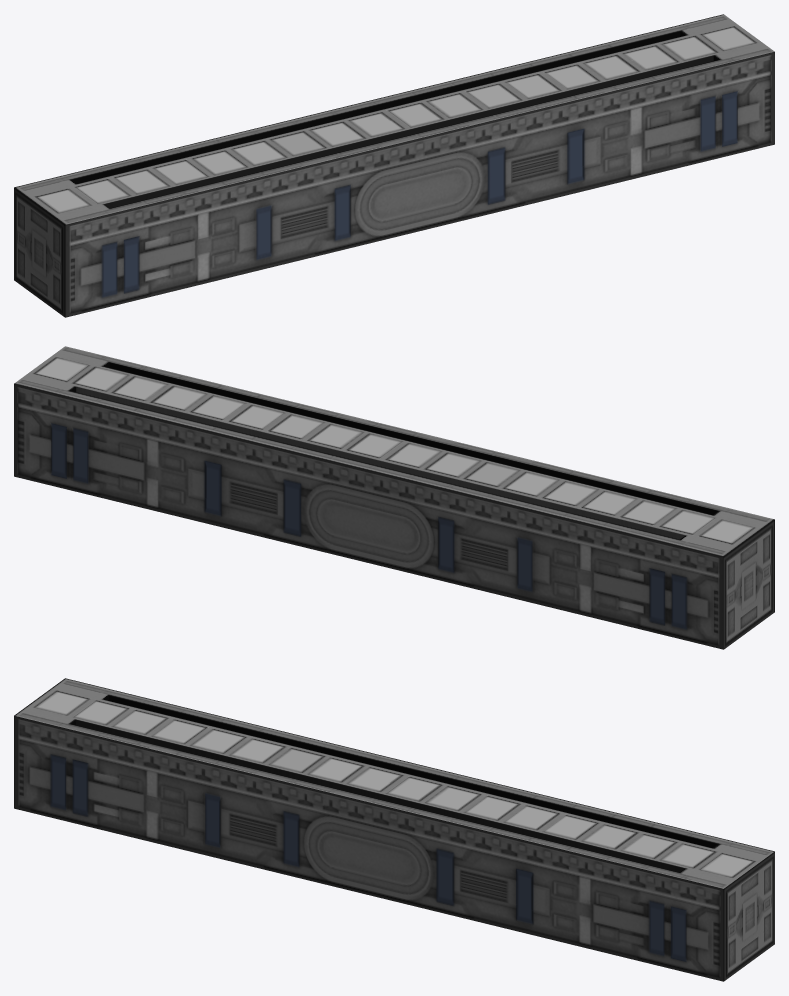
Rendered from Platform4.fbx.
3 views of the same model, one above another, from view 1: azimuth 30°, elevation 25°; view 2: azimuth 150°, elevation 25°; view 3: azimuth 330°, elevation 25° (orthographic).
Parts seen in each view (by area): view 1: Platform13; view 2: Platform13; view 3: Platform13.
Part boxes in pixels (x1,y1,x2,y2): Platform13: (14, 14, 774, 317); Platform13: (14, 346, 774, 649); Platform13: (14, 678, 774, 981).
Bounding box in the file's own units: 8 × 1 × 1.
